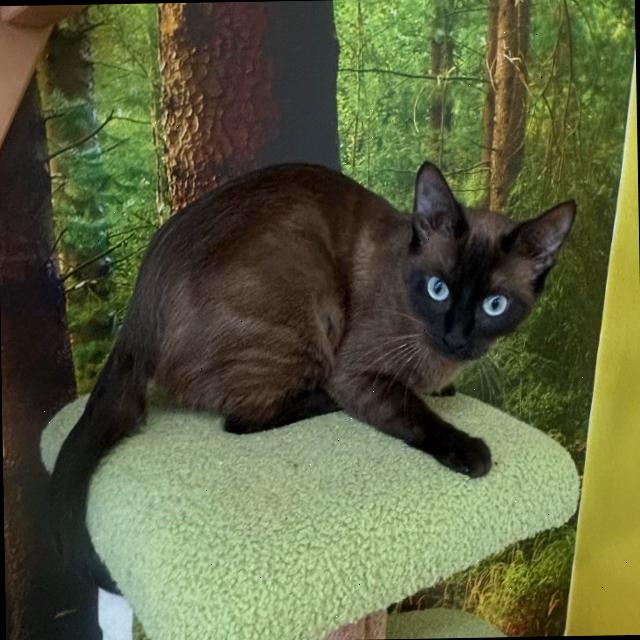siamese_cat: (376, 157, 586, 380)
